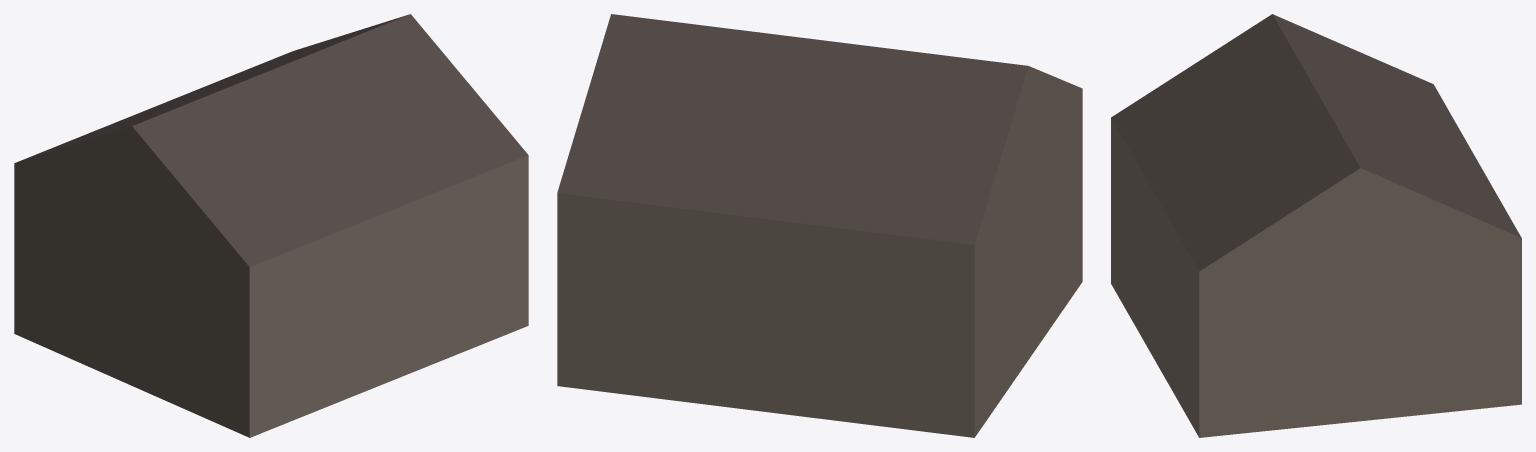
3 renders of one model, left to right at view 1: azimuth 30°, elevation 25°; view 2: azimuth 150°, elevation 25°; view 3: azimuth 270°, elevation 25°, orthographic. The views are drawn at different scales.
Visible parts, largest first — view 1: HP-w1367350987; view 2: HP-w1367350987; view 3: HP-w1367350987.
Boxes of the visible parts, <box> form: HP-w1367350987: <box>14,14,528,437</box>; HP-w1367350987: <box>557,14,1082,437</box>; HP-w1367350987: <box>1111,14,1521,437</box>.
Bounding box in the file's own units: 14.49 × 9.13 × 13.43.
